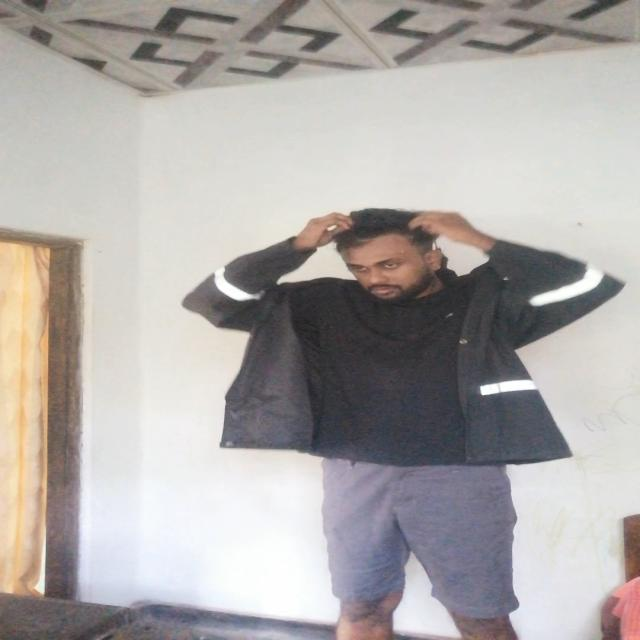Jacket_Wearer: (174, 236, 640, 504)
